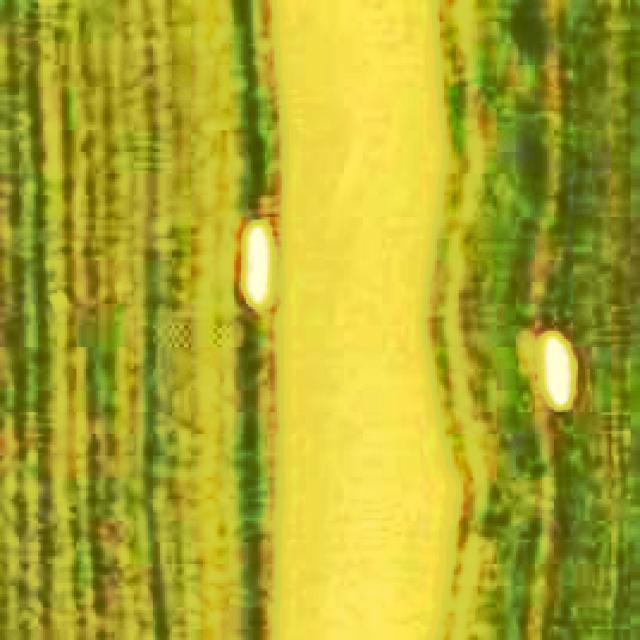whorl-maggot: (534, 324, 586, 416), (238, 217, 284, 313)
